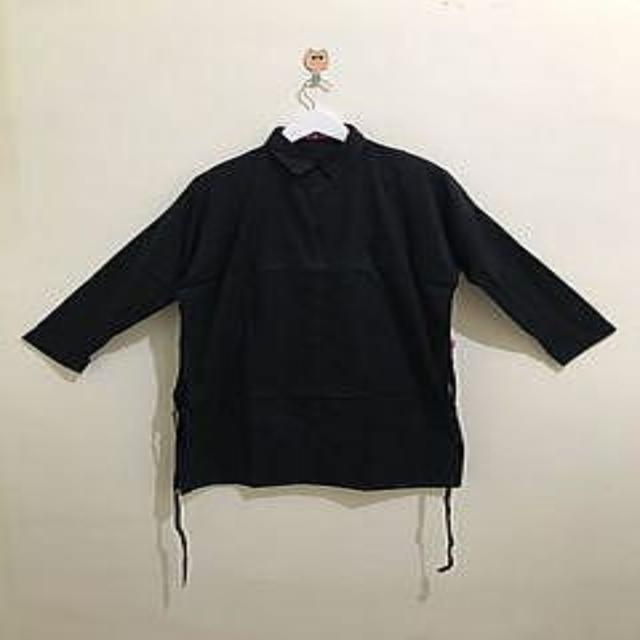SHIRT: (14, 111, 632, 504)
